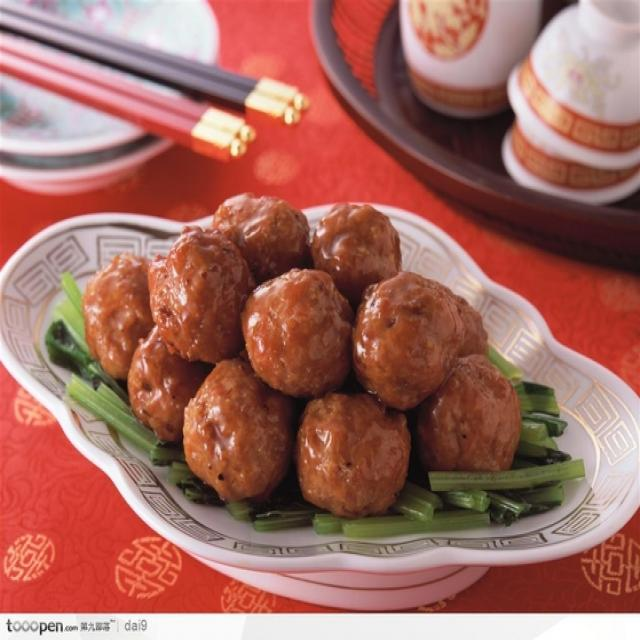meatball: (291, 381, 420, 514), (183, 354, 290, 506), (147, 225, 256, 368), (352, 269, 464, 408), (244, 269, 356, 398), (419, 351, 530, 481), (80, 248, 162, 388), (309, 196, 411, 301), (124, 324, 210, 448), (206, 193, 313, 282)
